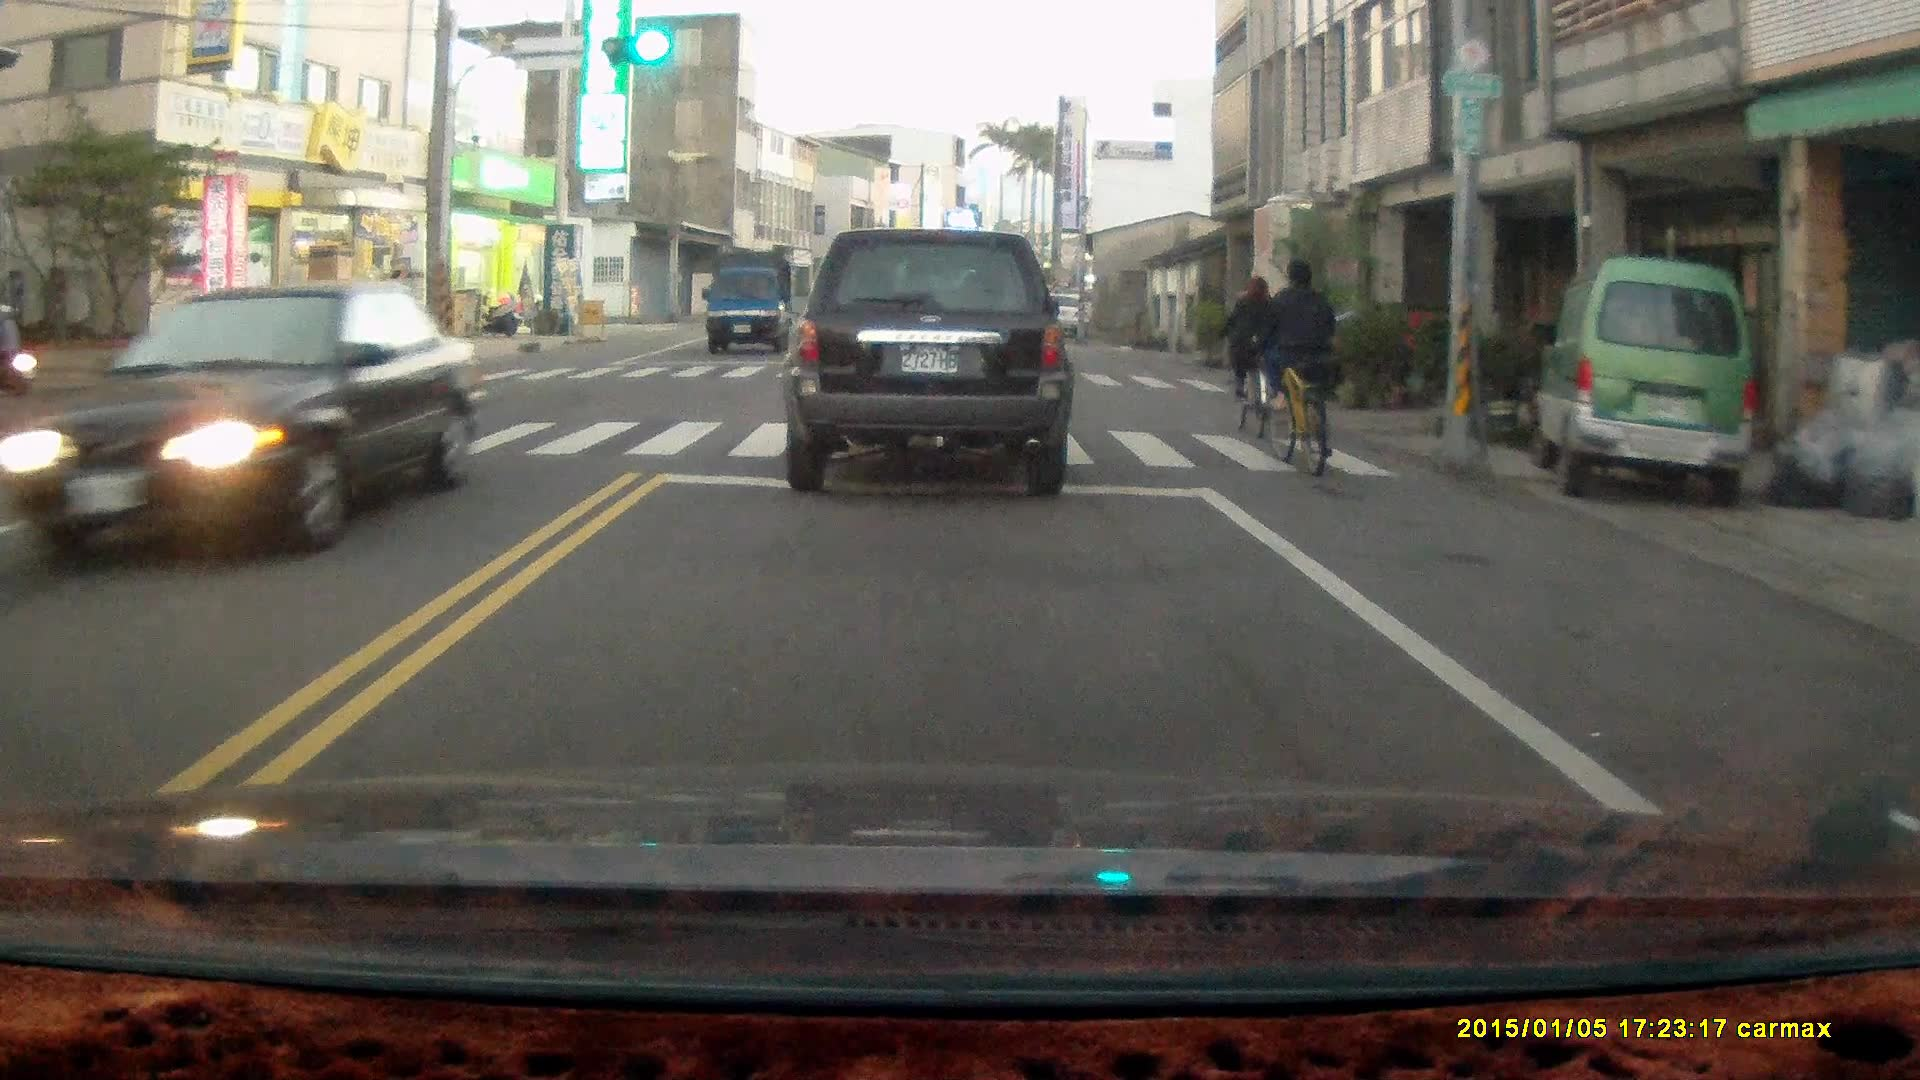rider: (1254, 255, 1341, 474), (1221, 278, 1280, 450), (0, 295, 37, 399)
vehicle: (12, 283, 477, 566), (784, 229, 1073, 499), (1540, 259, 1765, 514), (707, 252, 805, 357)
